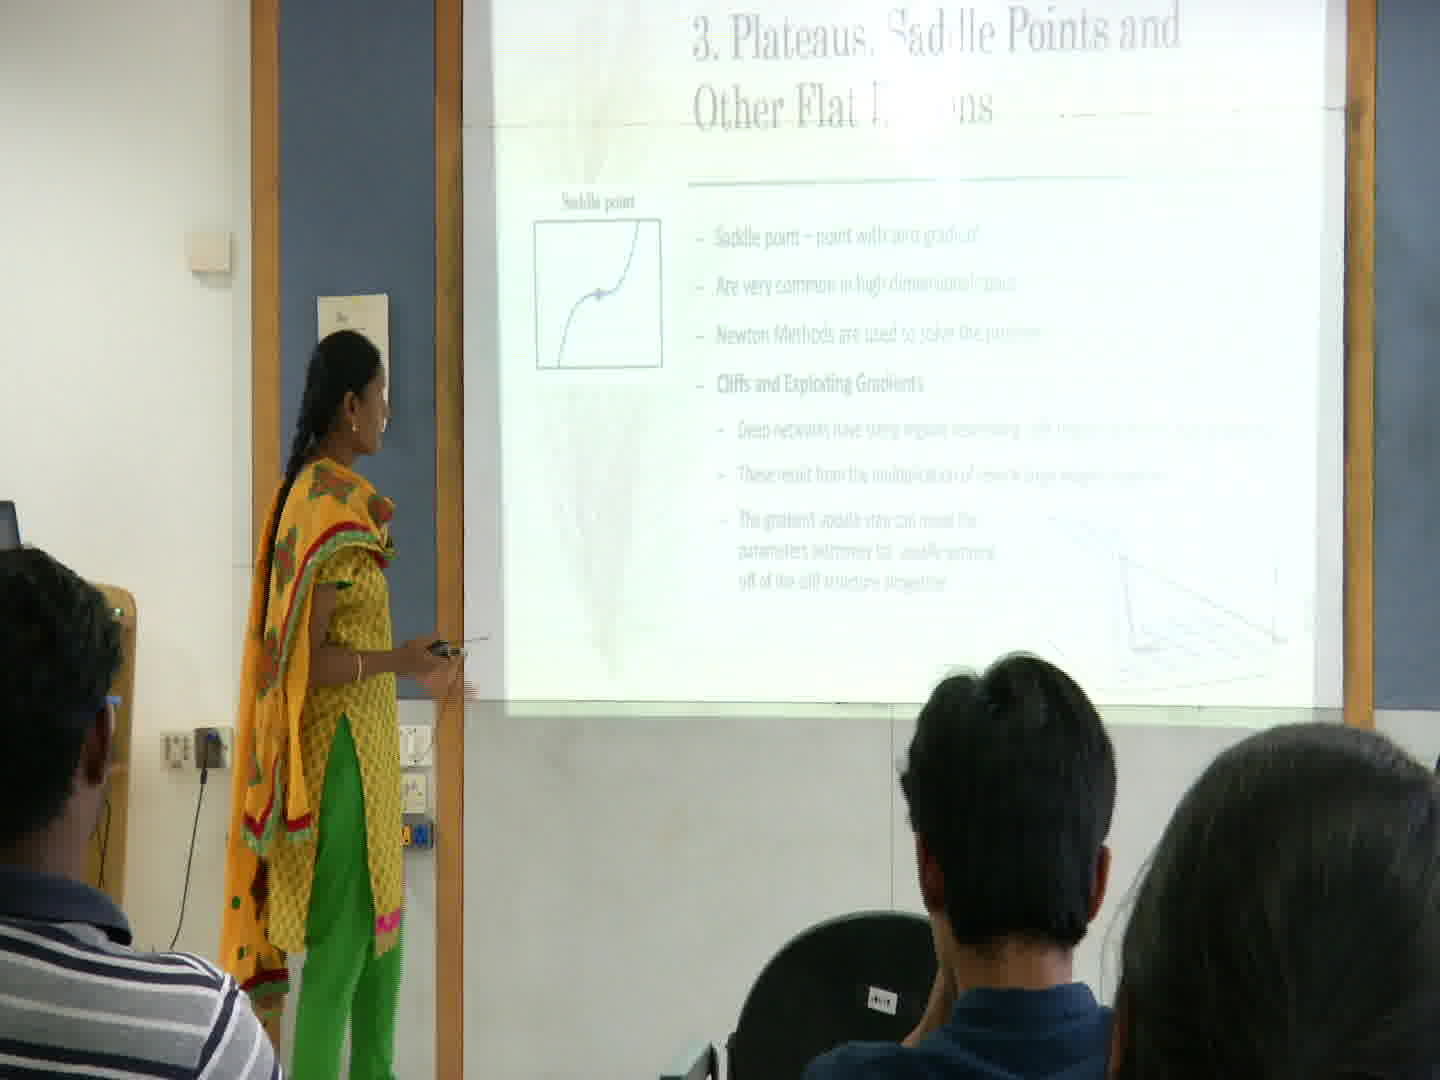fig: (527, 186, 668, 376)
